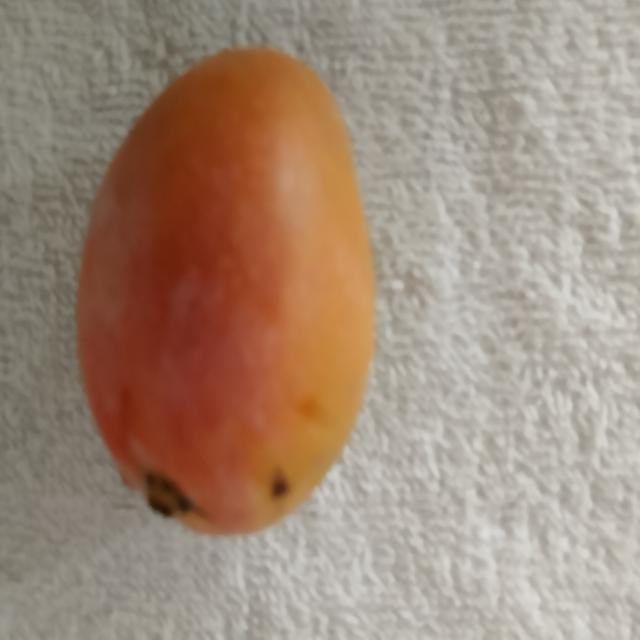mango: (77, 49, 374, 533)
